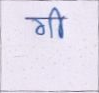i_matra: (52, 7, 66, 38)
